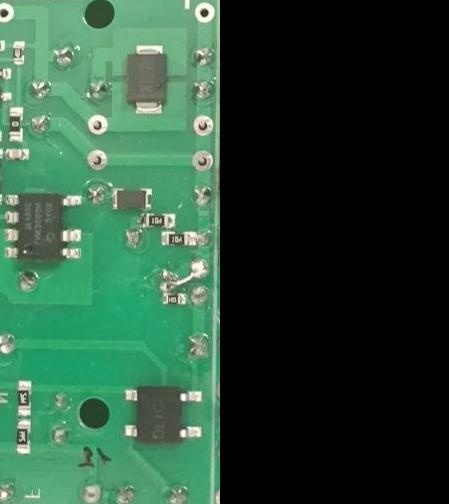chip-capacitor: (6, 147, 31, 161)
chip-resistor: (160, 229, 198, 246), (9, 106, 26, 143), (140, 211, 177, 228), (17, 378, 33, 415), (16, 417, 32, 453), (161, 290, 189, 305), (12, 39, 27, 65), (0, 66, 14, 80)
diode: (126, 40, 171, 116), (110, 185, 155, 210)
ic: (6, 190, 83, 261), (124, 384, 206, 444)
